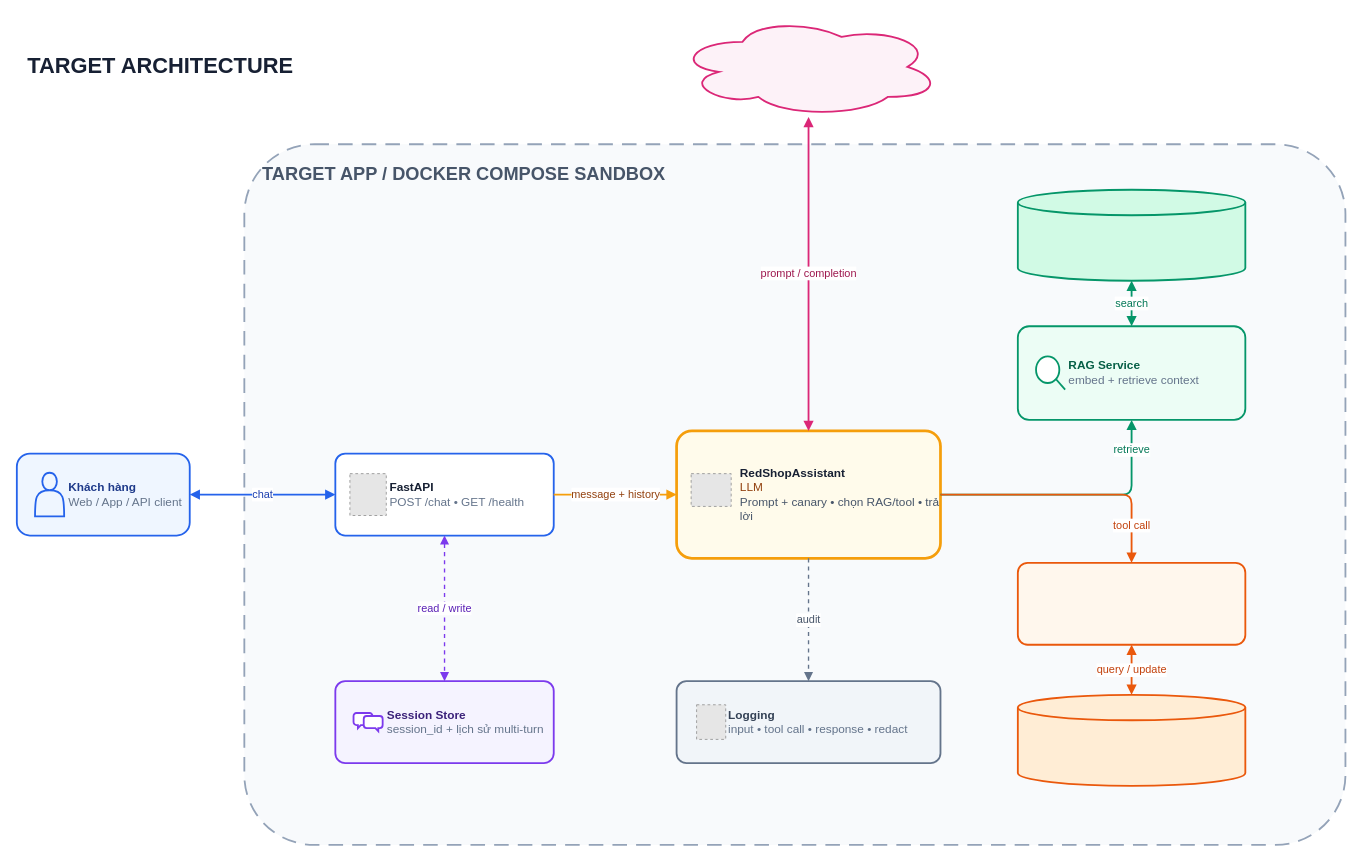
This 1361x861 diagram has some shape labels left out. Grey dashed boxes stand in for pictures. The centre of each missing label's shape, as x and y in pixels:
"Customer DB PII mock • đơn hàng • ticket" goes at (1131,739).
"Customer Tools lookup customer/ticket • create ticket" goes at (1131,603).
"Groq LLM API qwen/qwen3.8-27b • temperature 0.0" goes at (808,66).
"Knowledge Base Vector DB • FAQ / sản phẩm" goes at (1131,234).
